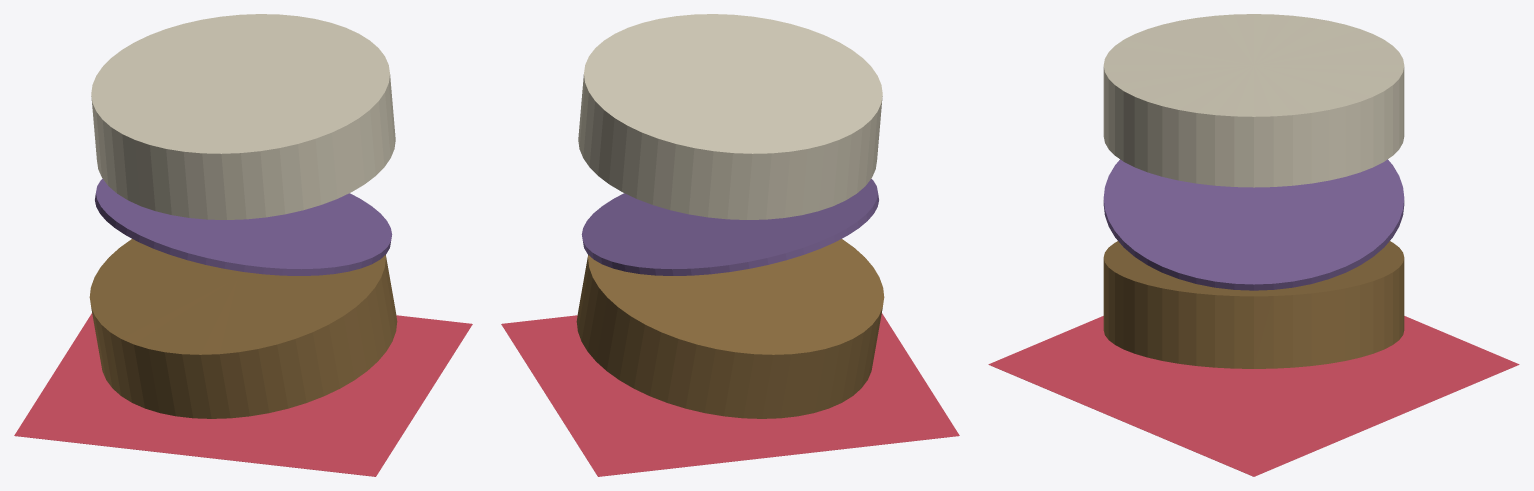
Rendered from CUV.glb.
3 views of the same model, side by side, from view 1: azimuth 30°, elevation 25°; view 2: azimuth 150°, elevation 25°; view 3: azimuth 270°, elevation 25° (orthographic).
Parts seen in each view (by area): view 1: Mesh_Mesh_head_geo.001_lambert2SG.001; view 2: Mesh_Mesh_head_geo.001_lambert2SG.001; view 3: Mesh_Mesh_head_geo.001_lambert2SG.001.
Boxes of the visible parts, x1,y1,x2,y2 form: Mesh_Mesh_head_geo.001_lambert2SG.001: (14,14,472,476); Mesh_Mesh_head_geo.001_lambert2SG.001: (501,14,959,476); Mesh_Mesh_head_geo.001_lambert2SG.001: (988,14,1519,476).
Size of the model in its own units: 0.0354 by 0.0227 by 0.0354.
